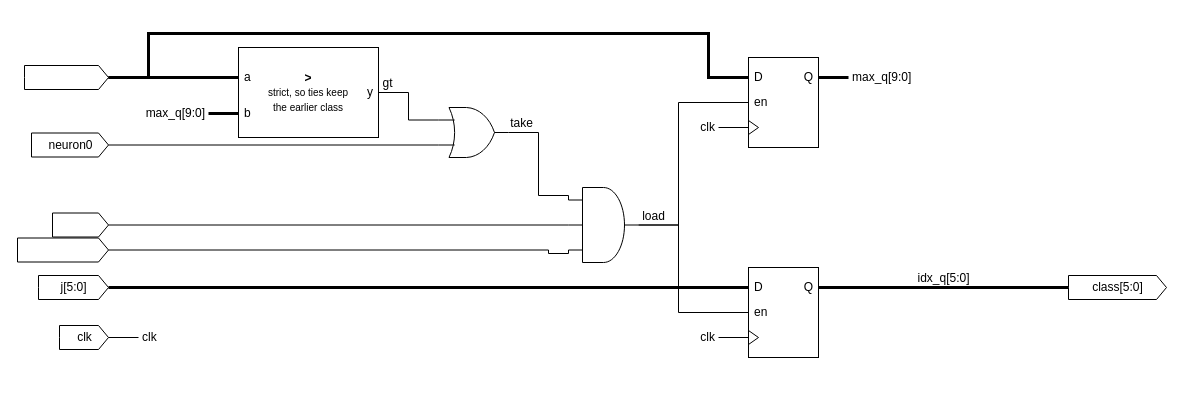
Some shapes in this 1184 by 394 pixel diagram are drawn without their labels. The shapes that lost their labels are listed below. From the top down, each one's centre as x and y in pixels, then its label:
At [66,77]: "acc[9:0]".
At [80,224]: "last".
At [62,249]: "out_layer".
